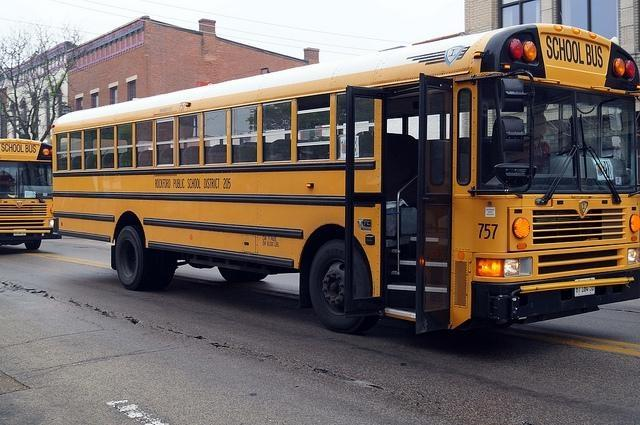bus: (51, 23, 640, 348), (0, 138, 67, 250)
